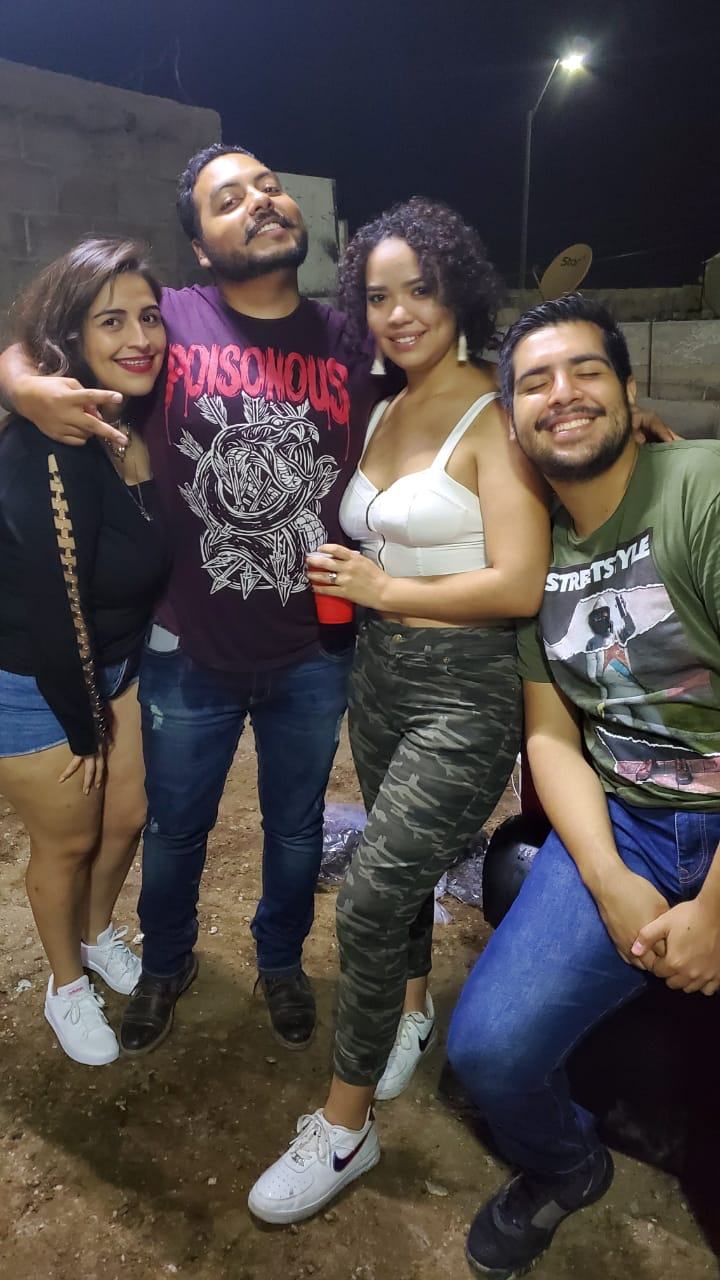Yoshi: (143, 128, 339, 383)
